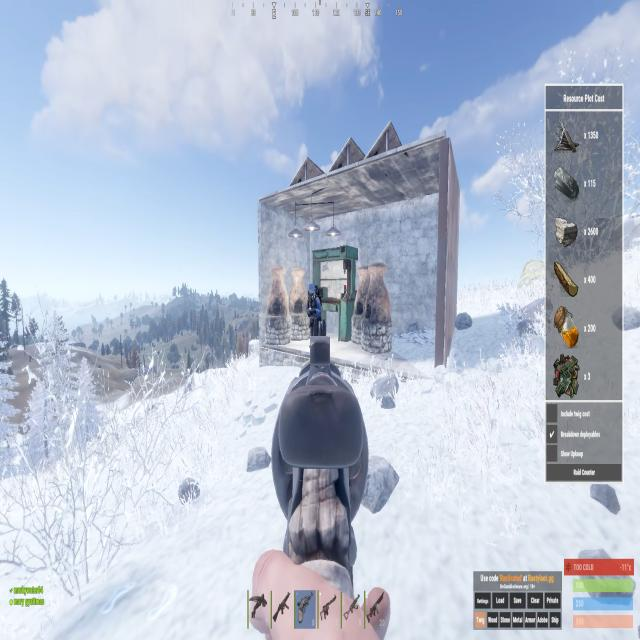Player: (307, 281, 323, 338)
